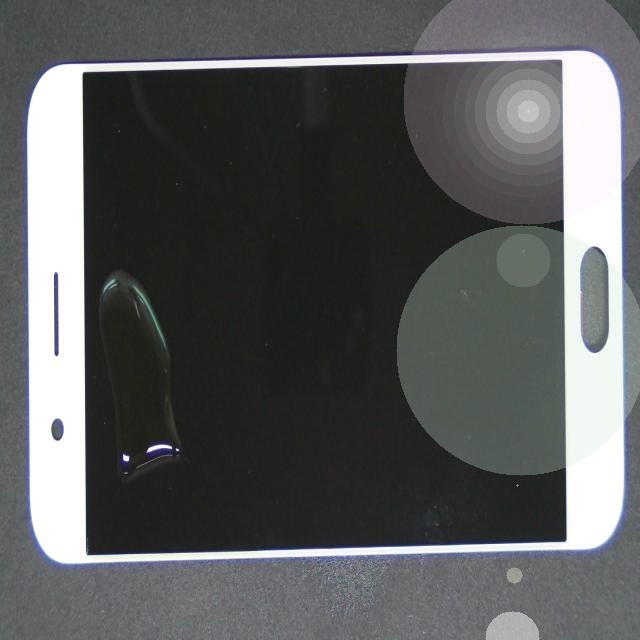oil: (37, 254, 206, 640)
